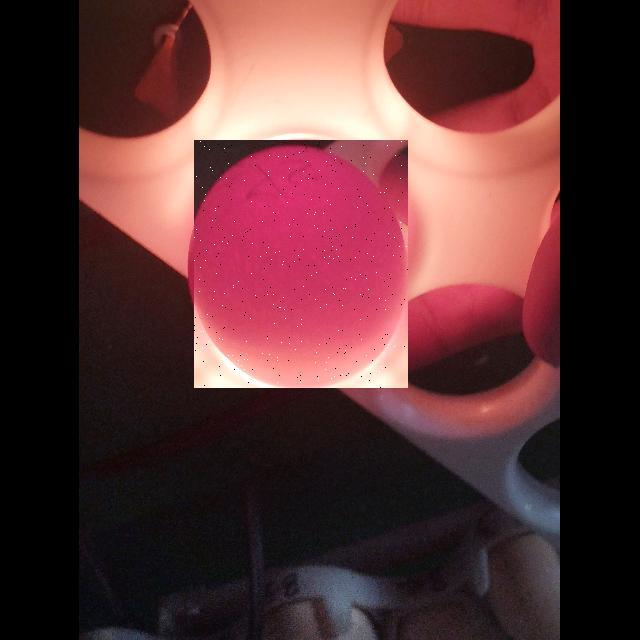Fertile: (194, 140, 408, 388)
